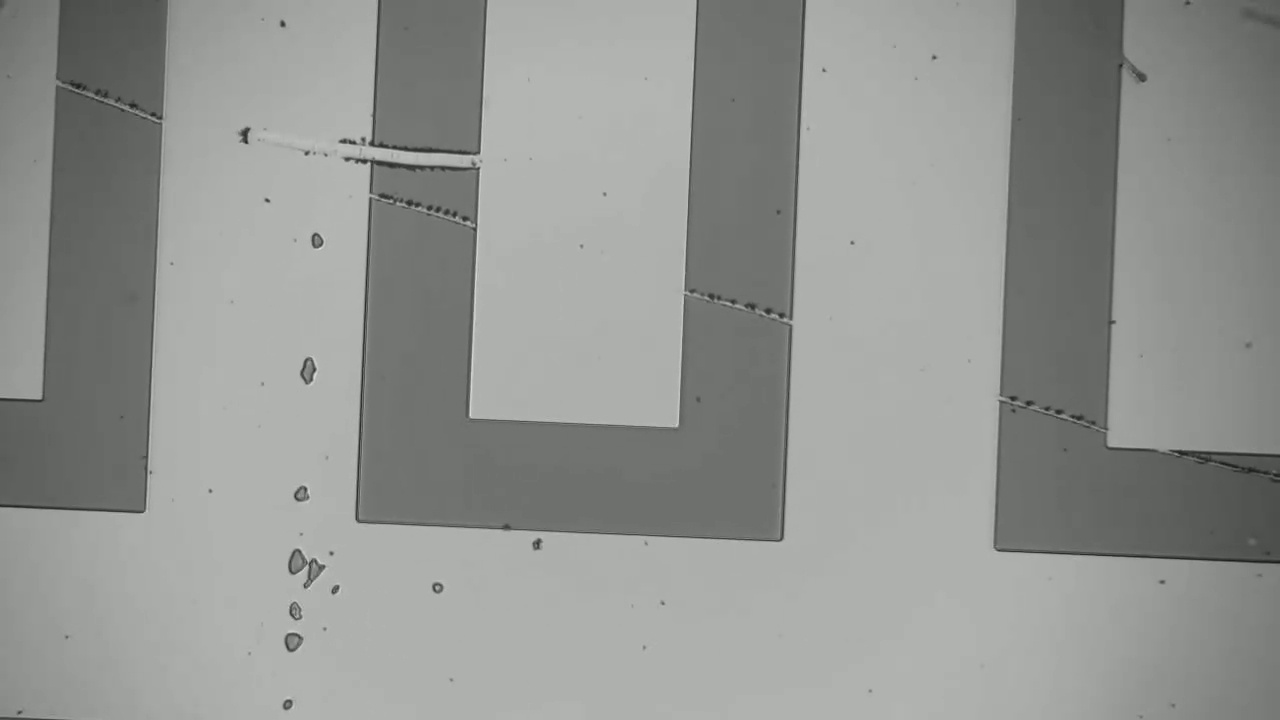Short_circuit: (342, 130, 505, 185)
scratch: (63, 79, 152, 117), (375, 189, 472, 221), (1010, 395, 1098, 427), (688, 286, 781, 314)
